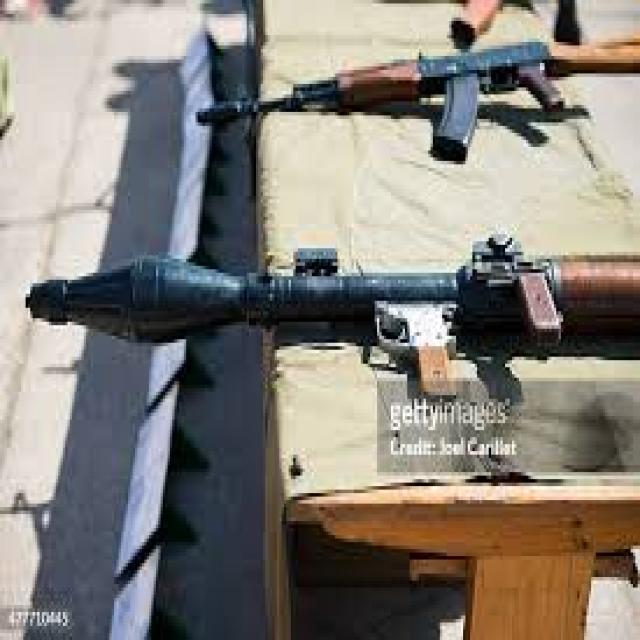Gun: (23, 212, 640, 376)
